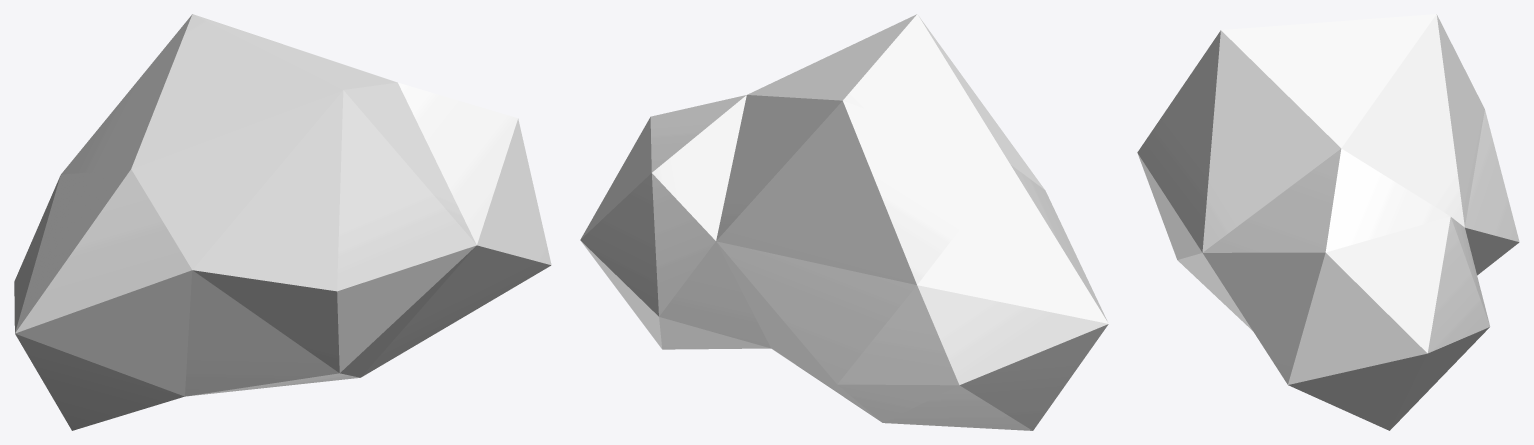
The model's file is GL-Cloud-02-LOD3.fbx.
3 renders of one model, left to right at view 1: azimuth 30°, elevation 25°; view 2: azimuth 150°, elevation 25°; view 3: azimuth 270°, elevation 25°, orthographic. The views are drawn at different scales.
Visible parts, largest first — view 1: GL_Cloud_02; view 2: GL_Cloud_02; view 3: GL_Cloud_02.
Part boxes in pixels (x1,y1,x2,y2): GL_Cloud_02: [14, 14, 551, 430]; GL_Cloud_02: [580, 14, 1108, 430]; GL_Cloud_02: [1137, 14, 1519, 430].
Size of the model in its own units: 1.72 by 1.1 by 1.18.
